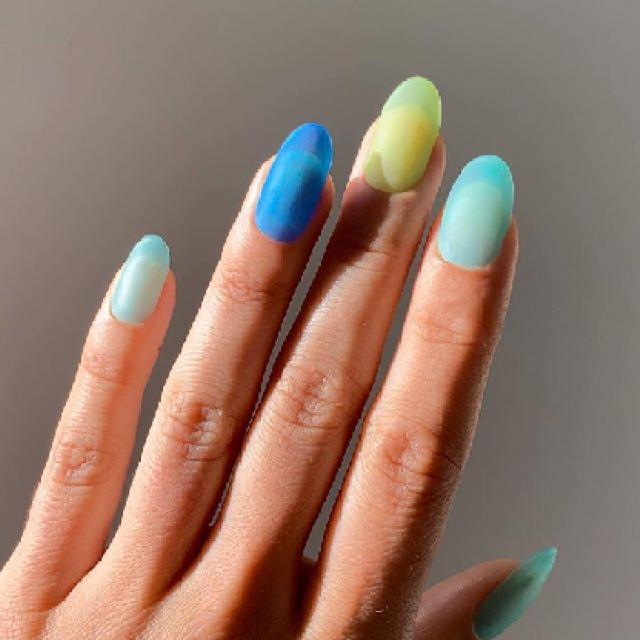Nail: (256, 122, 333, 242), (365, 76, 441, 192), (439, 155, 514, 268), (474, 546, 558, 640), (111, 235, 170, 323)
